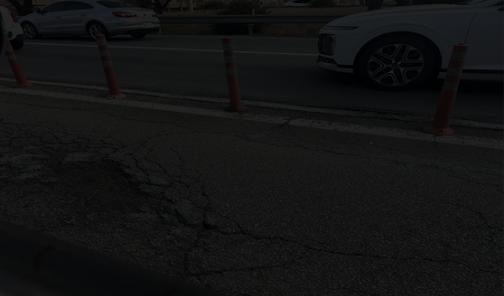pothole: (38, 139, 172, 228)
